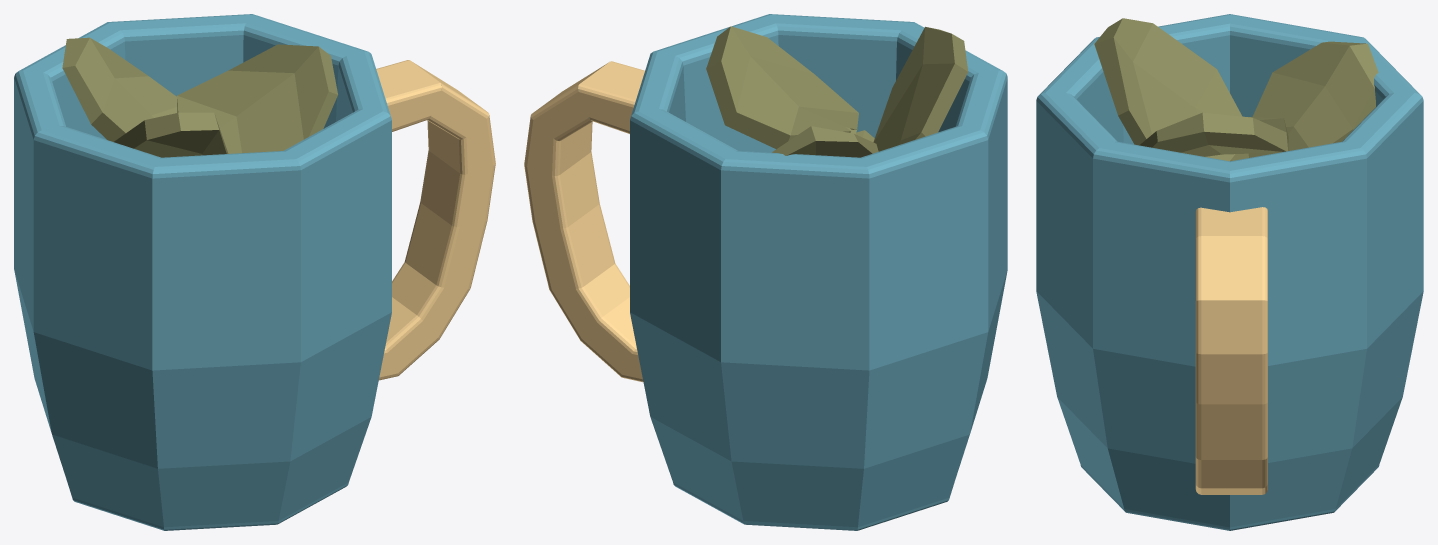
Rendered from Cup (empty) Herb.fbx.
The picture shows the model from 3 angles, left to right: view 1: azimuth 30°, elevation 25°; view 2: azimuth 150°, elevation 25°; view 3: azimuth 270°, elevation 25°; orthographic projection.
Visible parts, largest first — view 1: CupEmptyHerb; view 2: CupEmptyHerb; view 3: CupEmptyHerb.
Boxes of the visible parts, <box> form: CupEmptyHerb: <box>14,14,495,530</box>; CupEmptyHerb: <box>524,14,1007,530</box>; CupEmptyHerb: <box>1036,14,1423,530</box>.
Bounding box in the file's own units: 39.57 × 35.29 × 30.
